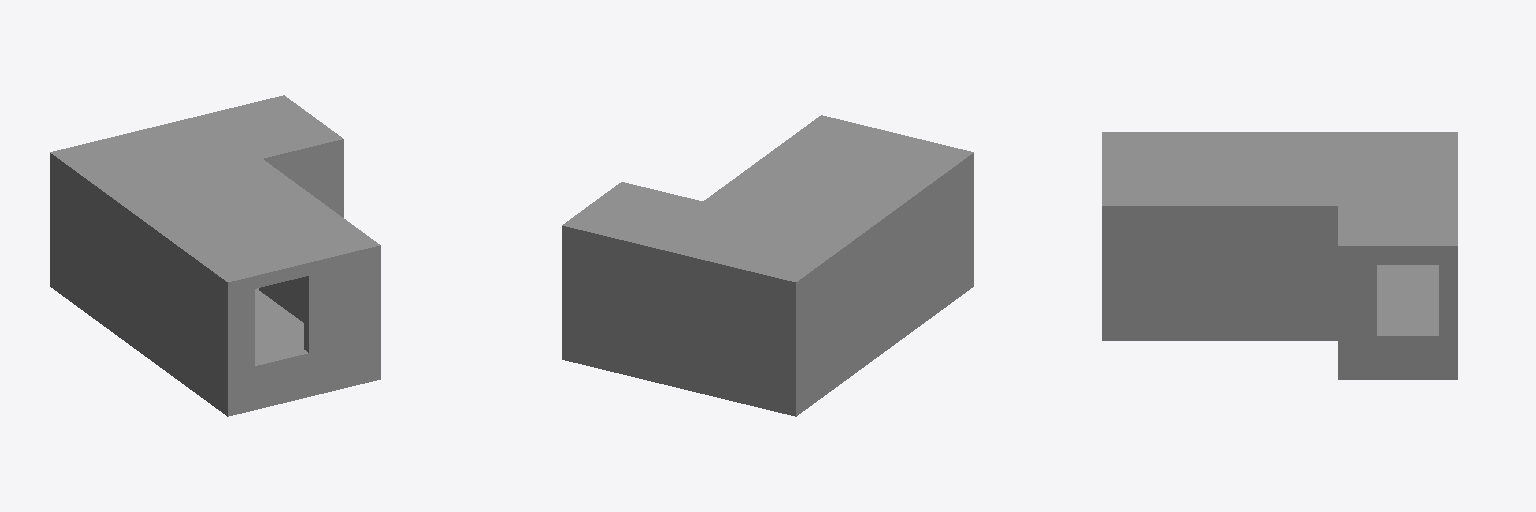
The model's file is Room.obj.
3 views of the same model, side by side, from view 1: azimuth 30°, elevation 25°; view 2: azimuth 150°, elevation 25°; view 3: azimuth 270°, elevation 25° (orthographic).
Visible parts, largest first — view 1: Cube; view 2: Cube; view 3: Cube.
Boxes of the visible parts, x1=… form: Cube: x1=50, y1=95, x2=380, y2=416; Cube: x1=562, y1=115, x2=973, y2=416; Cube: x1=1102, y1=132, x2=1457, y2=379.
Bounding box in the file's own units: 4.75 × 2.6 × 6.25.